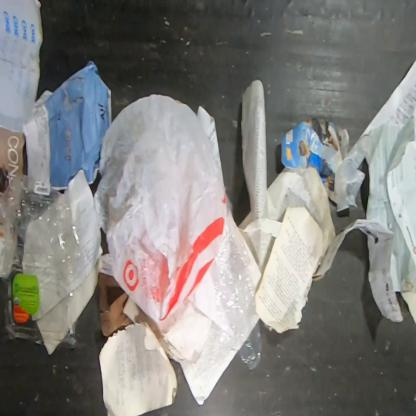cardboard: (279, 118, 350, 190), (98, 272, 133, 338)
rigid_plastic: (0, 169, 85, 347)
soft_plastic: (92, 94, 227, 367), (196, 204, 262, 381), (334, 142, 367, 212)
